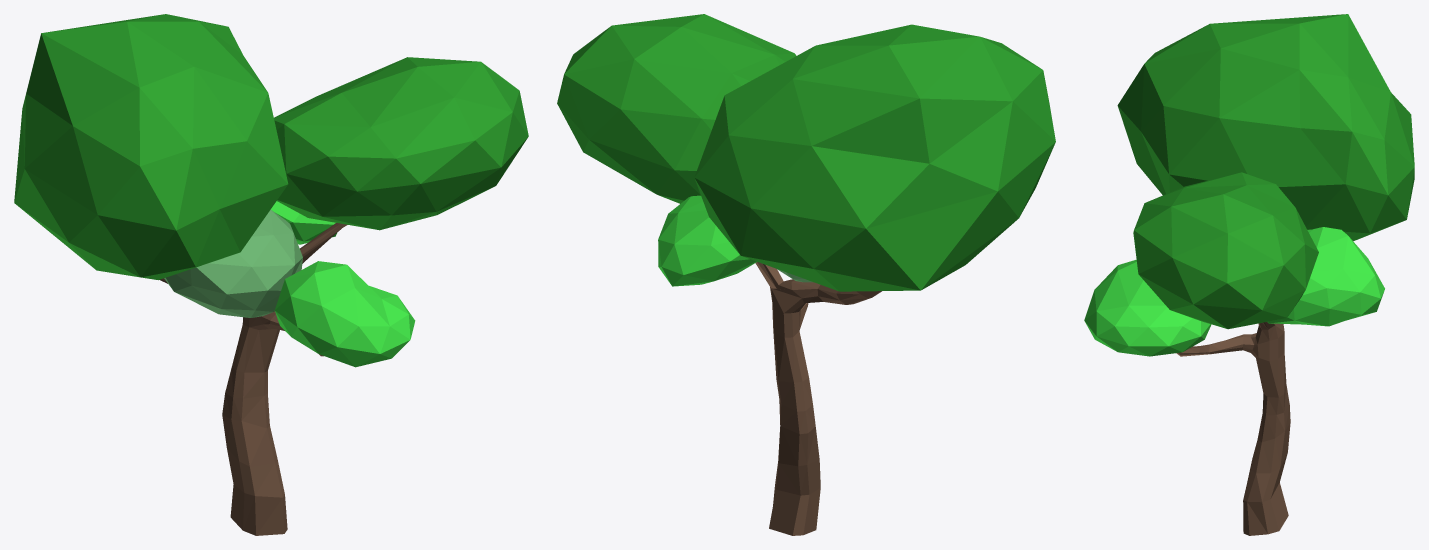
The model's file is tree.glb.
3 views of the same model, side by side, from view 1: azimuth 30°, elevation 25°; view 2: azimuth 150°, elevation 25°; view 3: azimuth 270°, elevation 25° (orthographic). The views are drawn at different scales.
Visible parts, largest first — view 1: Icosphere.002, Icosphere.001, Cube, Icosphere, Icosphere.004, Icosphere.003; view 2: Icosphere.002, Icosphere.001, Cube, Icosphere.003; view 3: Icosphere.002, Icosphere.001, Cube, Icosphere, Icosphere.003.
Boxes of the visible parts, x1=… form: Icosphere.002: x1=14, y1=14, x2=288, y2=280; Icosphere.001: x1=274, y1=57, x2=528, y2=230; Cube: x1=159, y1=223, x2=347, y2=535; Icosphere: x1=274, y1=261, x2=415, y2=367; Icosphere.004: x1=164, y1=209, x2=302, y2=317; Icosphere.003: x1=271, y1=201, x2=336, y2=244; Icosphere.002: x1=694, y1=24, x2=1055, y2=291; Icosphere.001: x1=557, y1=14, x2=796, y2=203; Cube: x1=755, y1=262, x2=881, y2=535; Icosphere.003: x1=658, y1=195, x2=756, y2=286; Icosphere.002: x1=1117, y1=14, x2=1414, y2=241; Icosphere.001: x1=1133, y1=172, x2=1318, y2=329; Cube: x1=1176, y1=322, x2=1290, y2=535; Icosphere: x1=1084, y1=259, x2=1211, y2=356; Icosphere.003: x1=1267, y1=227, x2=1384, y2=326.
Size of the model in its own units: 6.37 by 6.93 by 4.55.
